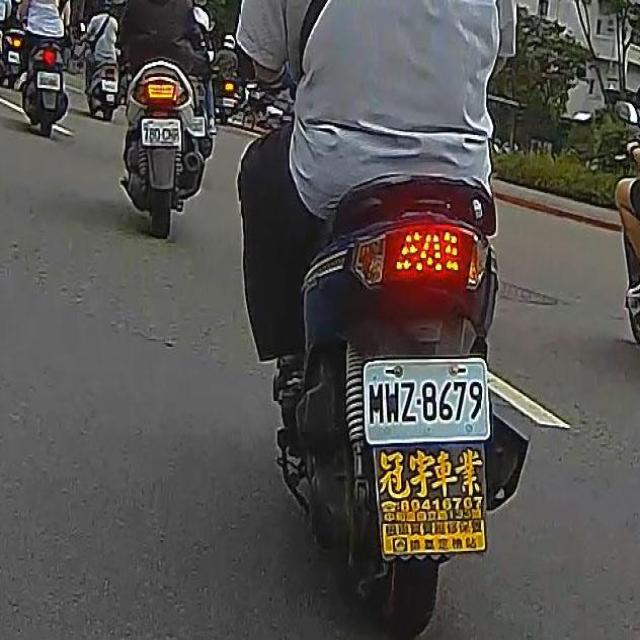license-plate: (362, 356, 492, 443), (139, 116, 182, 146)
